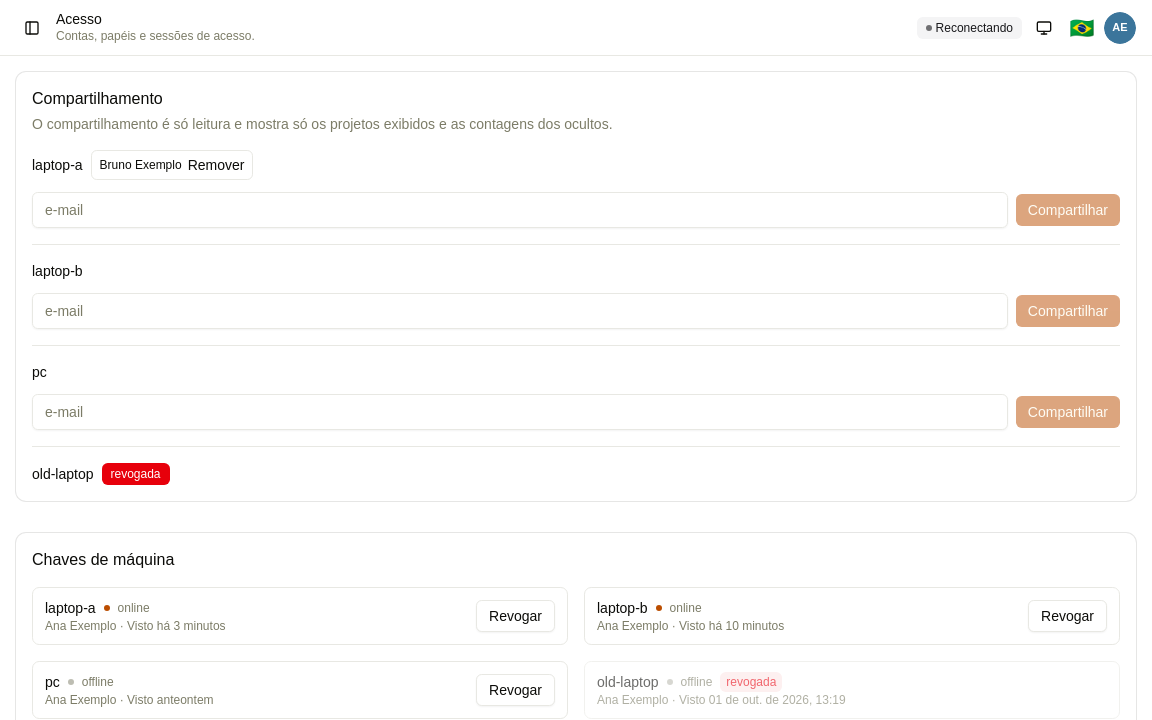
Test case: access: sharing › shows the error with retry when a share removal fails
Check: the heading "Compartilhamento" is shown, box [32,90,163,107]
Click the button with aria-label "Remover — laptop-a": (216, 165) [188,155,244,175]
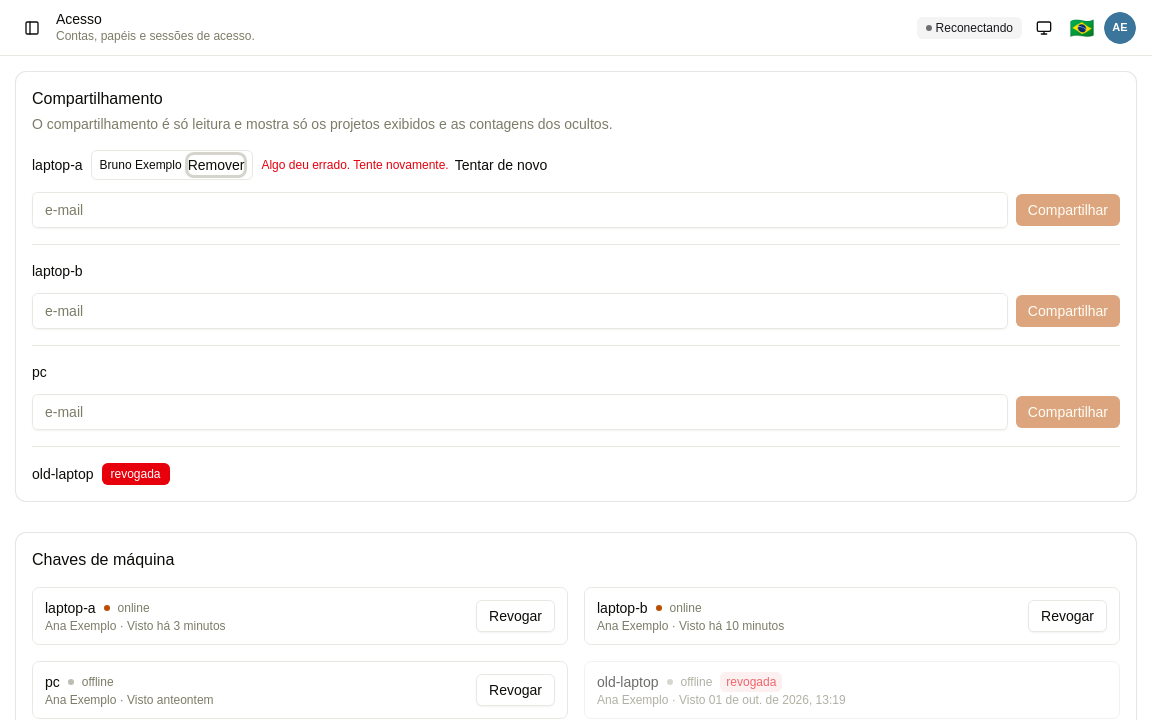
Check: the text "Bruno Exemplo" is shown, box [100,158,182,172]
Check: the message reads "Algo deu errado. Tente novamente.", box [261,158,449,172]
Check: the button "Tentar de novo" is shown, box [455,155,547,175]
